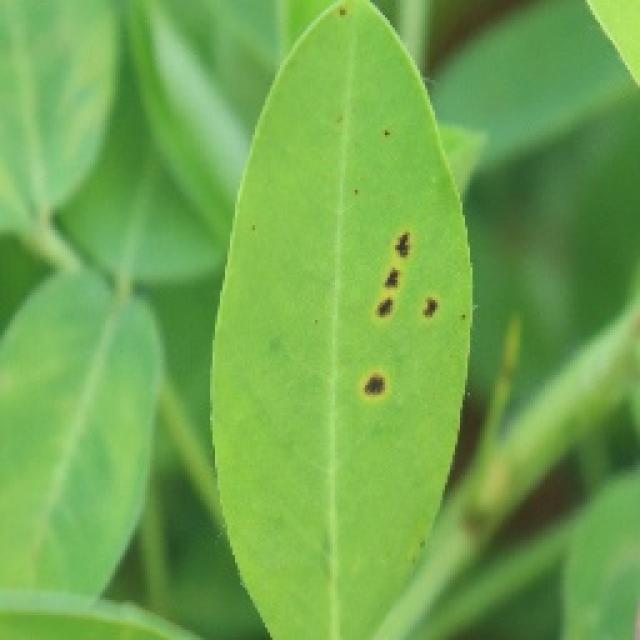Early_leaf_spot: (319, 192, 452, 412)
